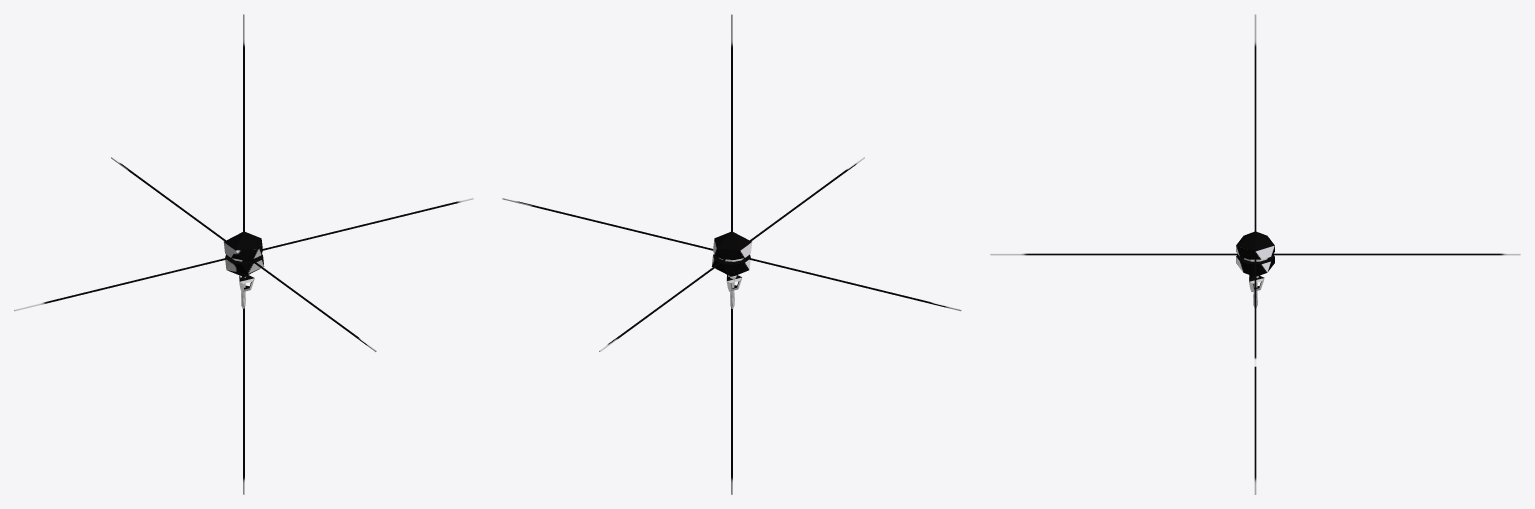
The model's file is FlyingTargets.fbx.
3 renders of one model, left to right at view 1: azimuth 30°, elevation 25°; view 2: azimuth 150°, elevation 25°; view 3: azimuth 270°, elevation 25°, orthographic.
Parts seen in each view (by area): view 1: Icosphere, Cube.001, Cube.002, Cube; view 2: Icosphere, Cube.001, Cube.002, Cube; view 3: Cube, Icosphere, Cube.002.
Boxes of the visible parts, bbox=[...] form: Icosphere: bbox=[223, 232, 264, 276]; Cube.001: bbox=[14, 197, 473, 311]; Cube.002: bbox=[243, 14, 244, 494]; Cube: bbox=[111, 157, 376, 351]; Icosphere: bbox=[711, 232, 752, 276]; Cube.001: bbox=[502, 197, 961, 311]; Cube.002: bbox=[731, 14, 732, 494]; Cube: bbox=[599, 157, 864, 351]; Cube: bbox=[990, 253, 1520, 255]; Icosphere: bbox=[1236, 231, 1274, 276]; Cube.002: bbox=[1254, 14, 1256, 494].
Bounding box in the file's own units: 2326 × 2326 × 2326.
Materials: 1 (1 with a texture image).
